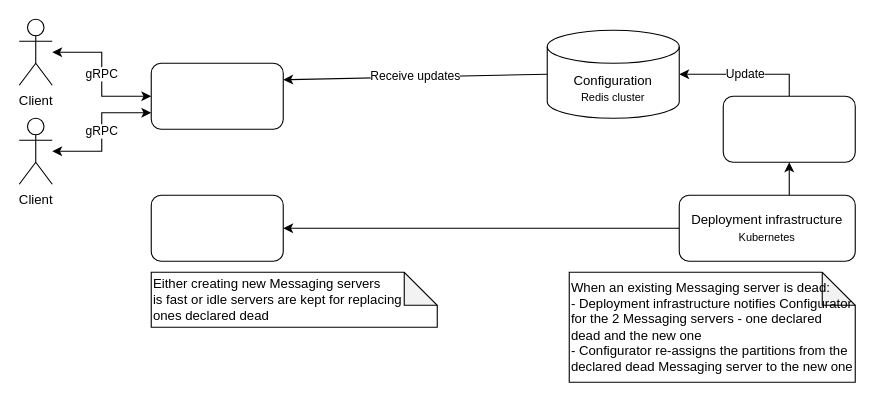
Image size: 875x402. Some labels were removed from this diagram. The shapes that lost their labels are listed below. From the top down, each one's box as (x1, y1, x2, y2) in pixels, then its label:
(150, 62, 283, 129): Messaging ASP.NET
(722, 95, 855, 162): Configurator ASP.NET
(150, 194, 283, 261): Messaging (idle/quickly created) ASP.NET
